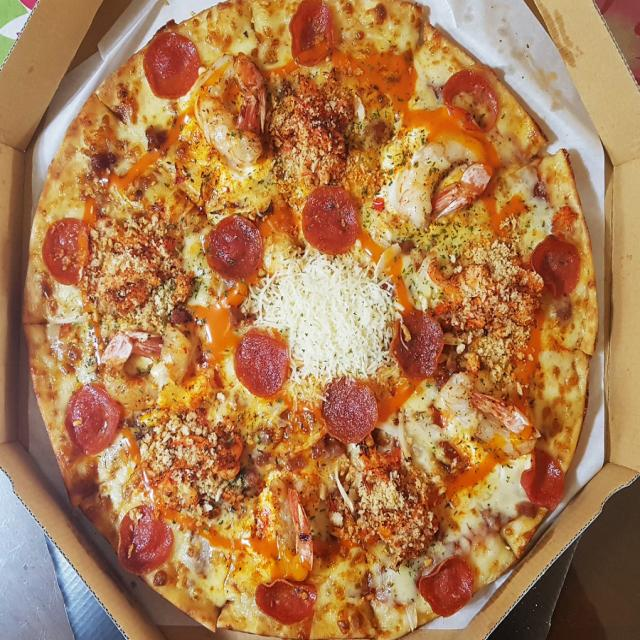Wet Waste: (14, 0, 607, 640)
